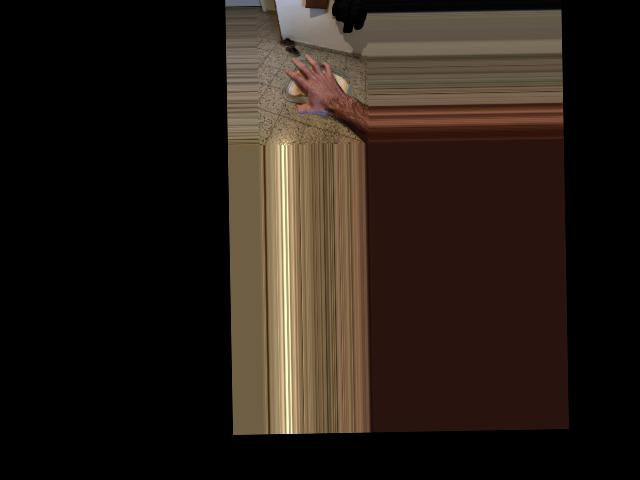cheese: (284, 54, 350, 120)
